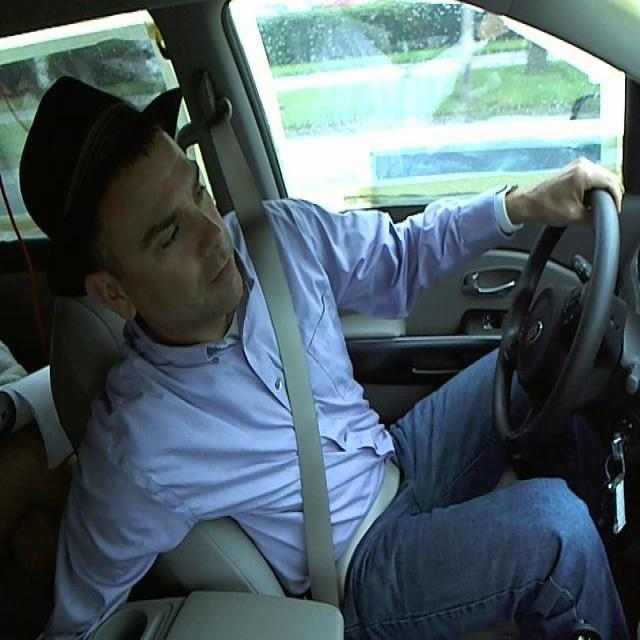seatbelt: (247, 248, 387, 575)
